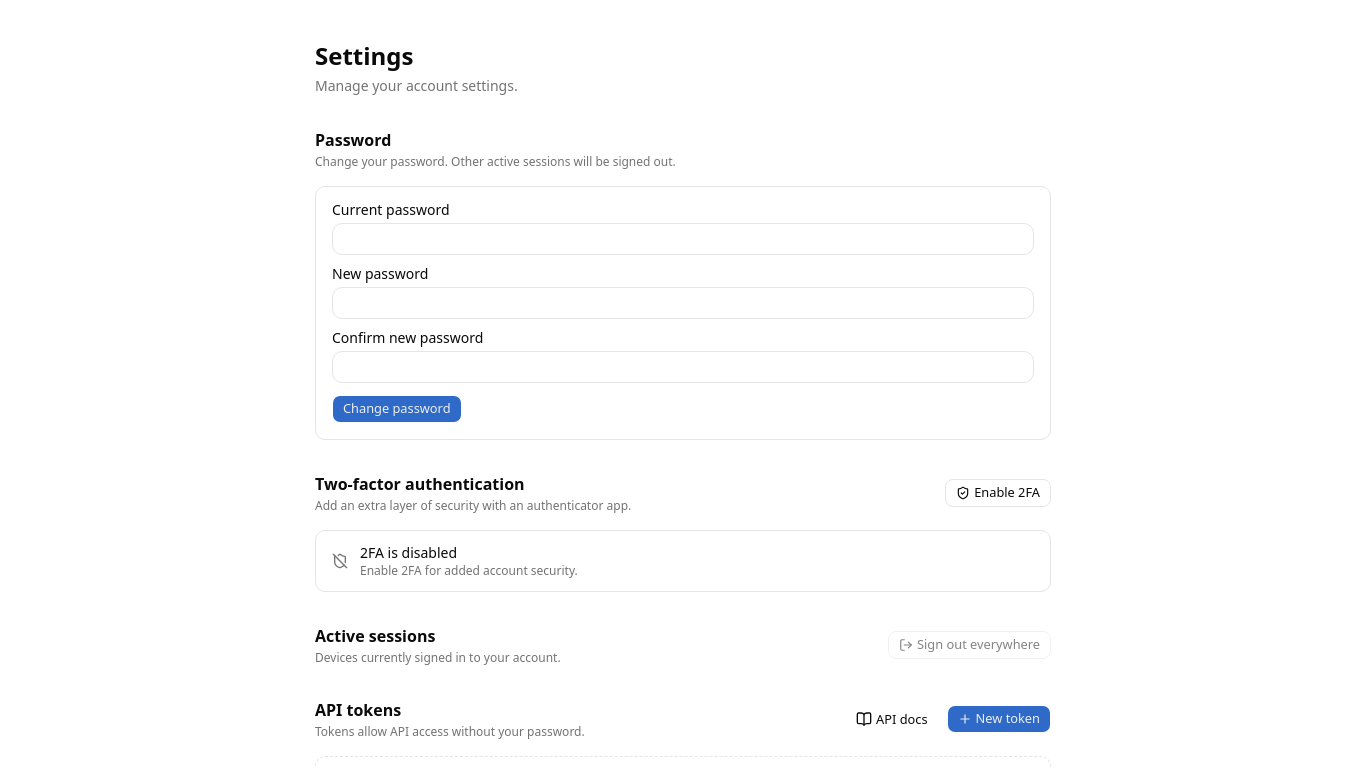
Scenario: all no access resets every group and disables save
Click the button "New token" at [999, 719], box [947,705,1051,733]
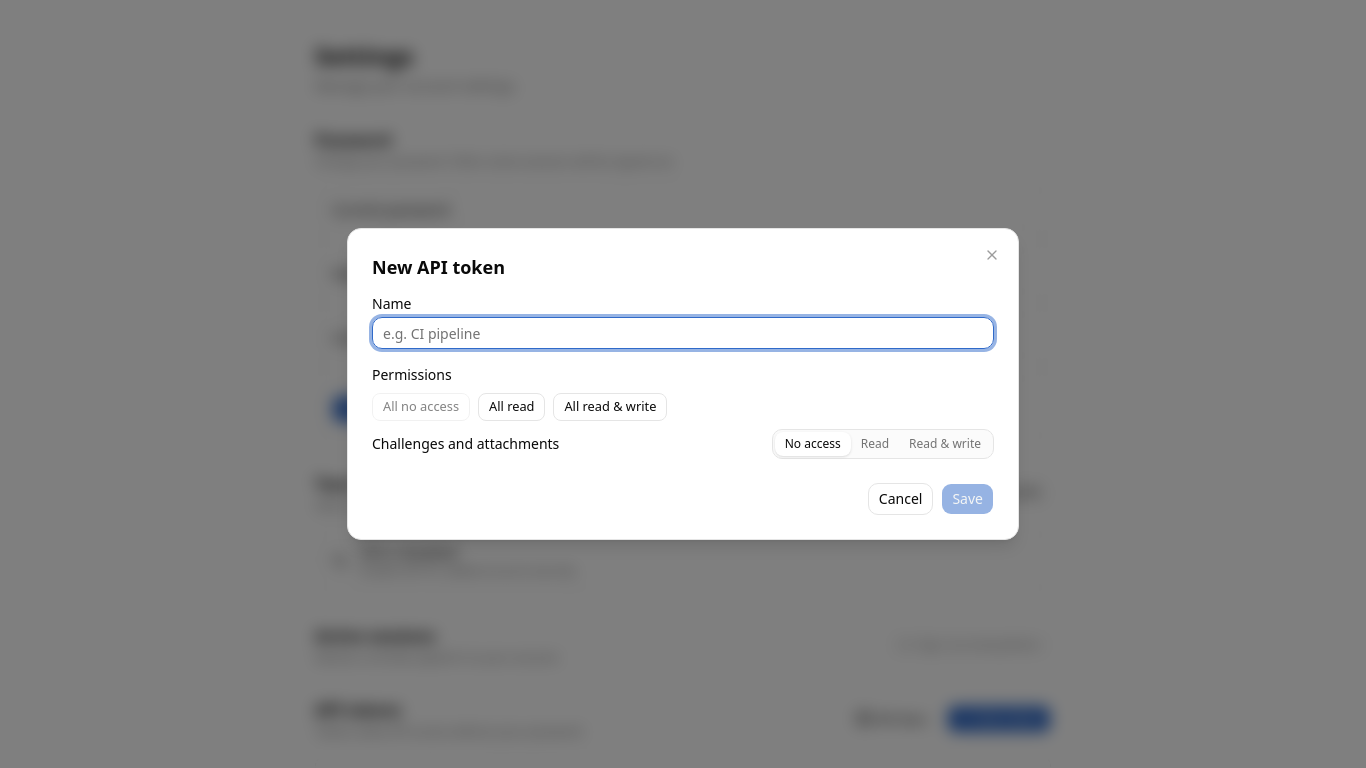
Click the button "All read & write" at [610, 407], box [553,393,667,421]
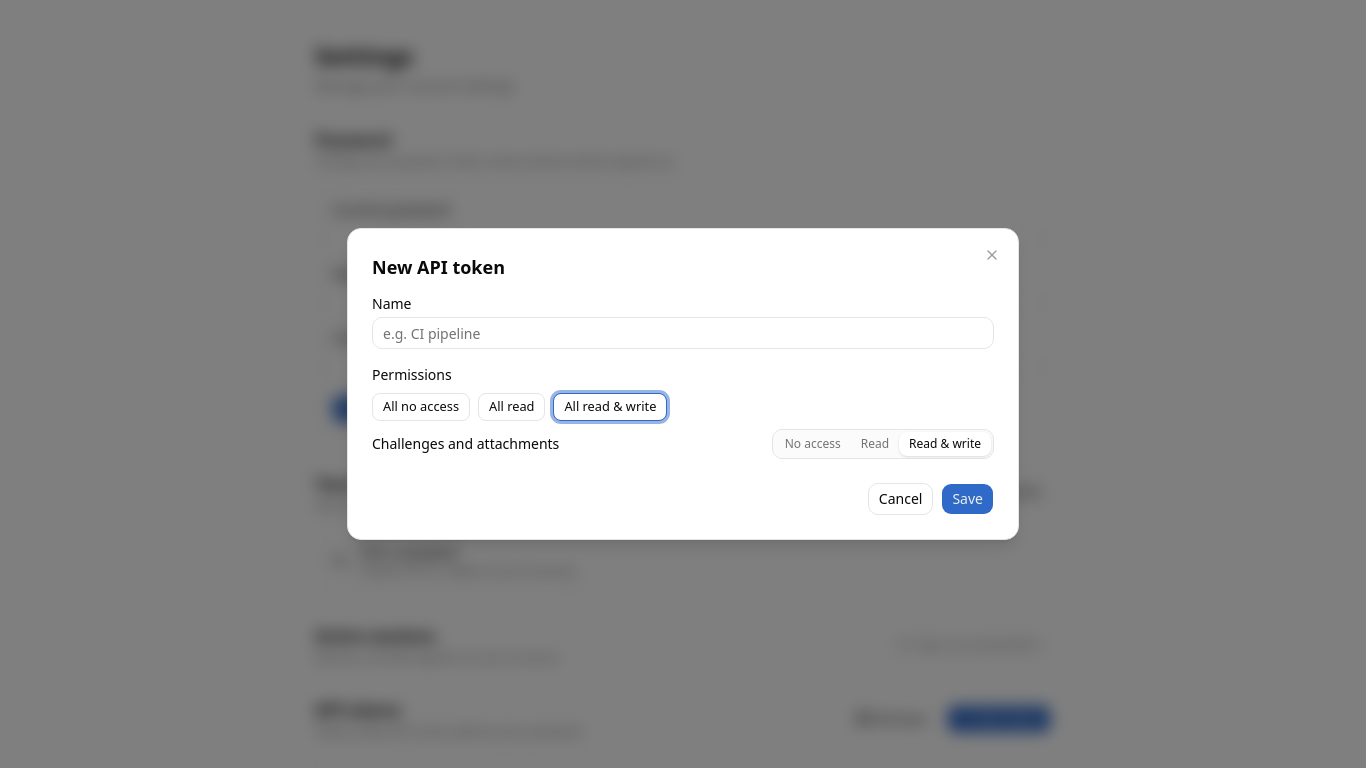
Result: the button "Save" is enabled at [941,483,994,515]
Click the button "All no access" at [421, 407], box [372,393,470,421]
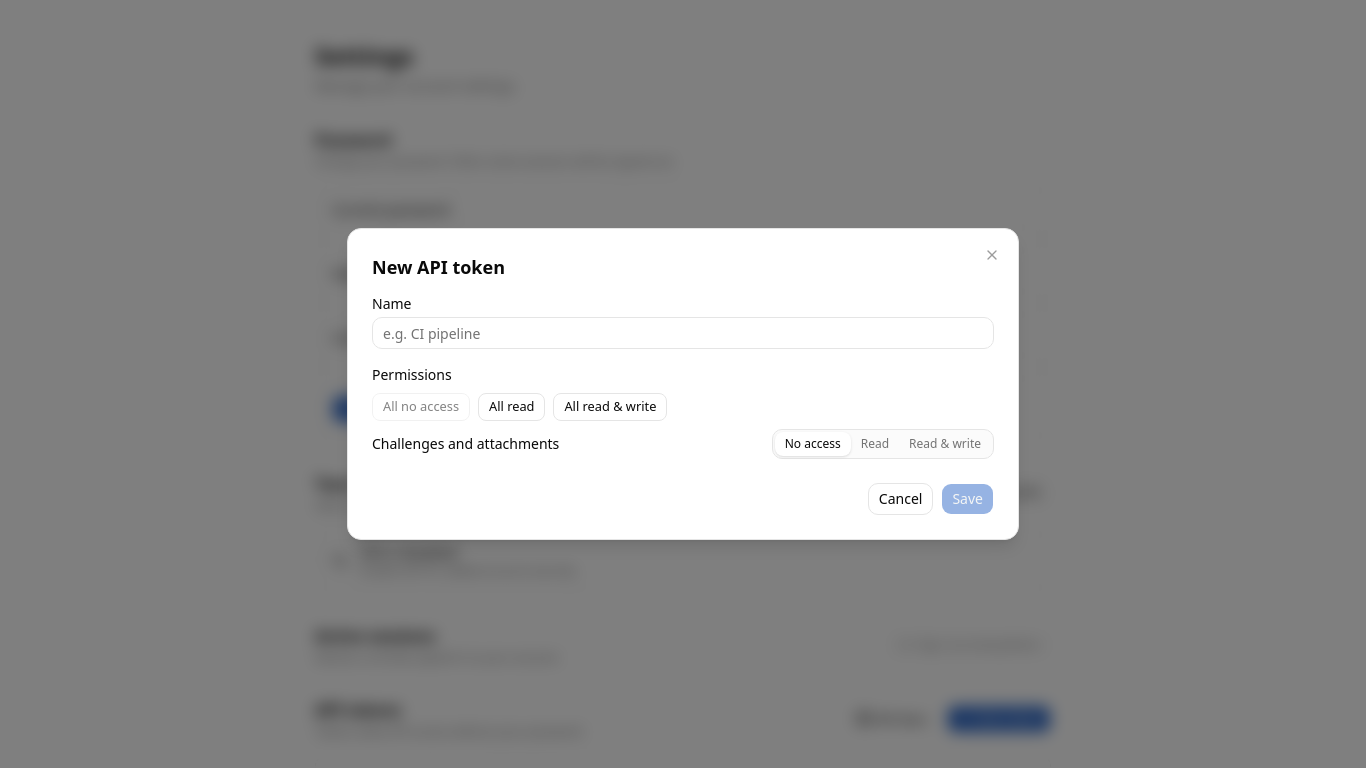
Result: the button "Save" is disabled at [941,483,994,515]
